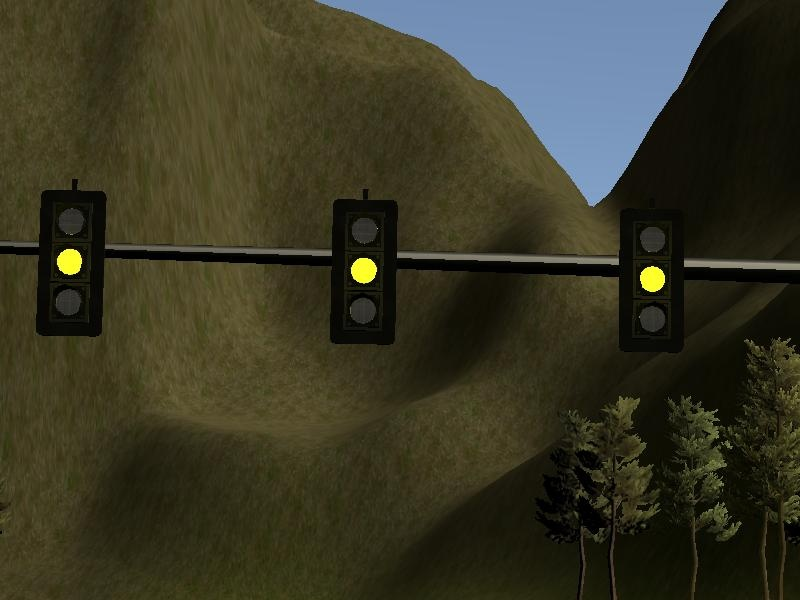YELLOW: (616, 207, 689, 353), (327, 196, 400, 342), (33, 188, 106, 334)
